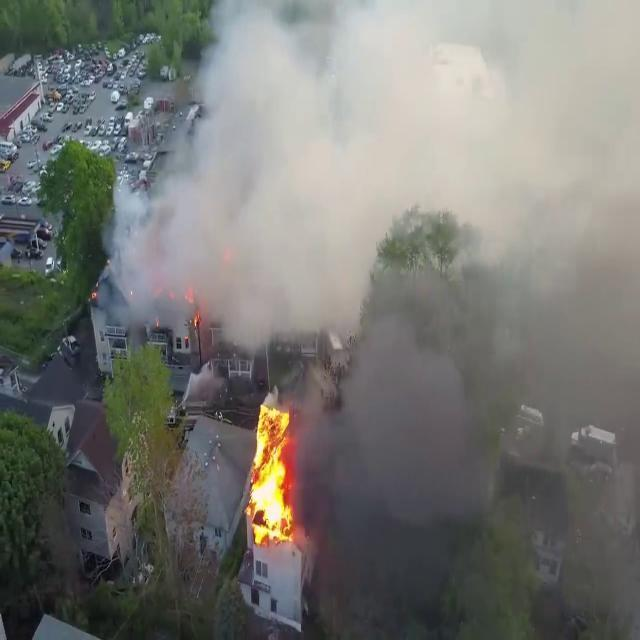Fire: (244, 394, 298, 546)
Smoke: (297, 13, 640, 636), (103, 0, 639, 343), (104, 0, 399, 344)
